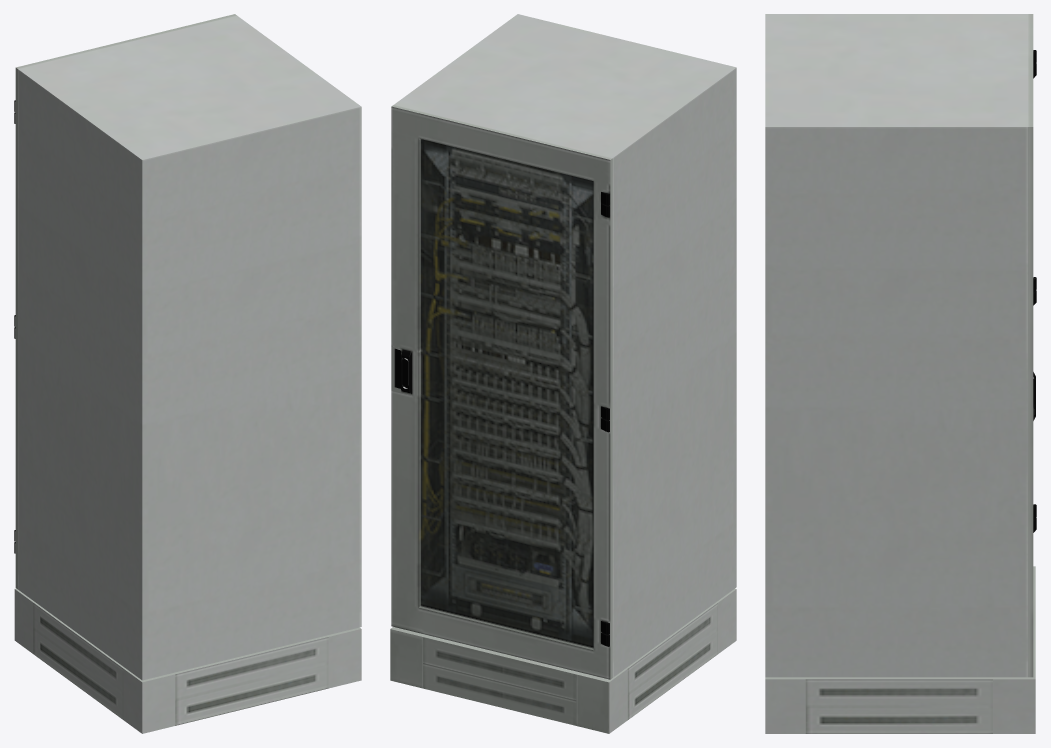
File: set1aobj.obj
The picture shows the model from 3 angles, left to right: view 1: azimuth 30°, elevation 25°; view 2: azimuth 150°, elevation 25°; view 3: azimuth 270°, elevation 25°; orthographic projection. The views are drawn at different scales.
Visible parts, largest first — view 1: set1; view 2: set1; view 3: set1.
Part boxes in pixels (bbox=[...]): set1: bbox=[14, 14, 361, 733]; set1: bbox=[390, 14, 736, 733]; set1: bbox=[765, 14, 1036, 733].
Bounding box in the file's own units: 0.8012 × 2 × 0.8096.
